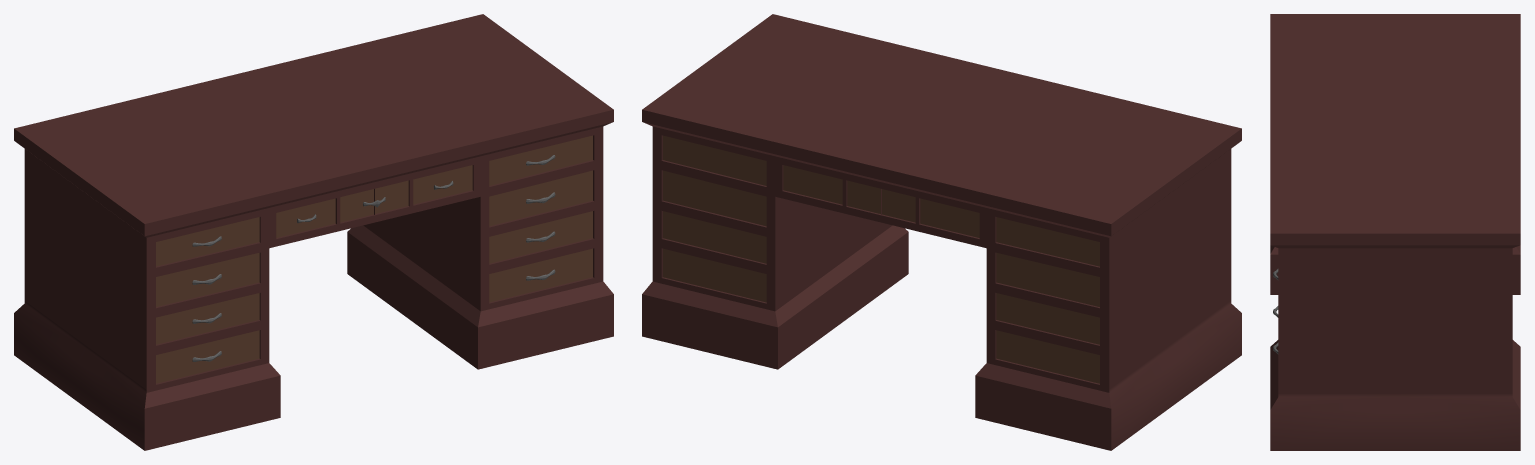
File: LargeDesk.fbx
3 renders of one model, left to right at view 1: azimuth 30°, elevation 25°; view 2: azimuth 150°, elevation 25°; view 3: azimuth 270°, elevation 25°, orthographic. The views are drawn at different scales.
Parts seen in each view (by area): view 1: LargeDesk, Handles; view 2: LargeDesk; view 3: LargeDesk.
Part boxes in pixels (box(x1,y1,x2,y2)): LargeDesk: box(14, 14, 613, 450); Handles: box(192, 155, 555, 361); LargeDesk: box(642, 14, 1241, 450); LargeDesk: box(1270, 14, 1520, 450).
Bounding box in the file's own units: 99.36 × 45.9 × 47.94.
